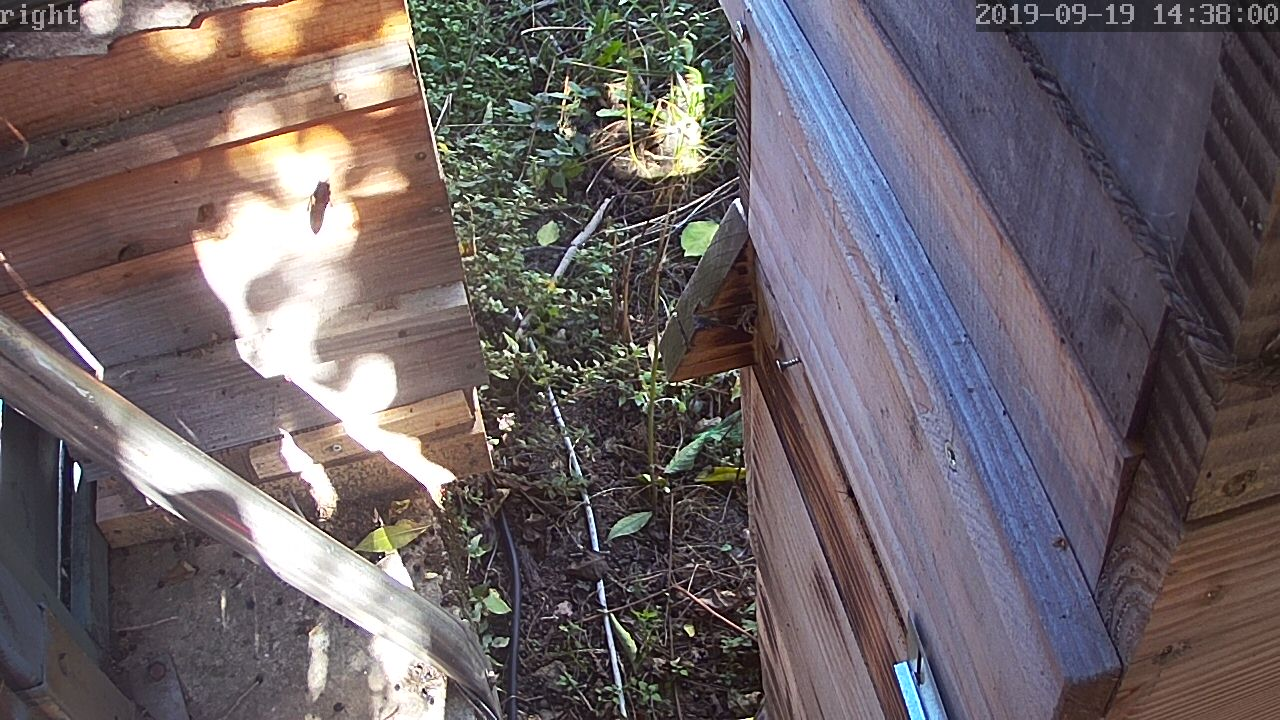hornet: (299, 176, 334, 228)
